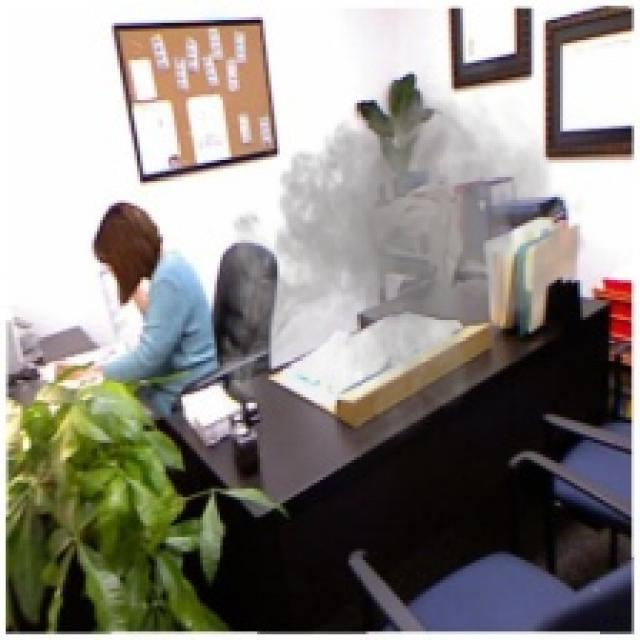smoke: (208, 68, 588, 463)
